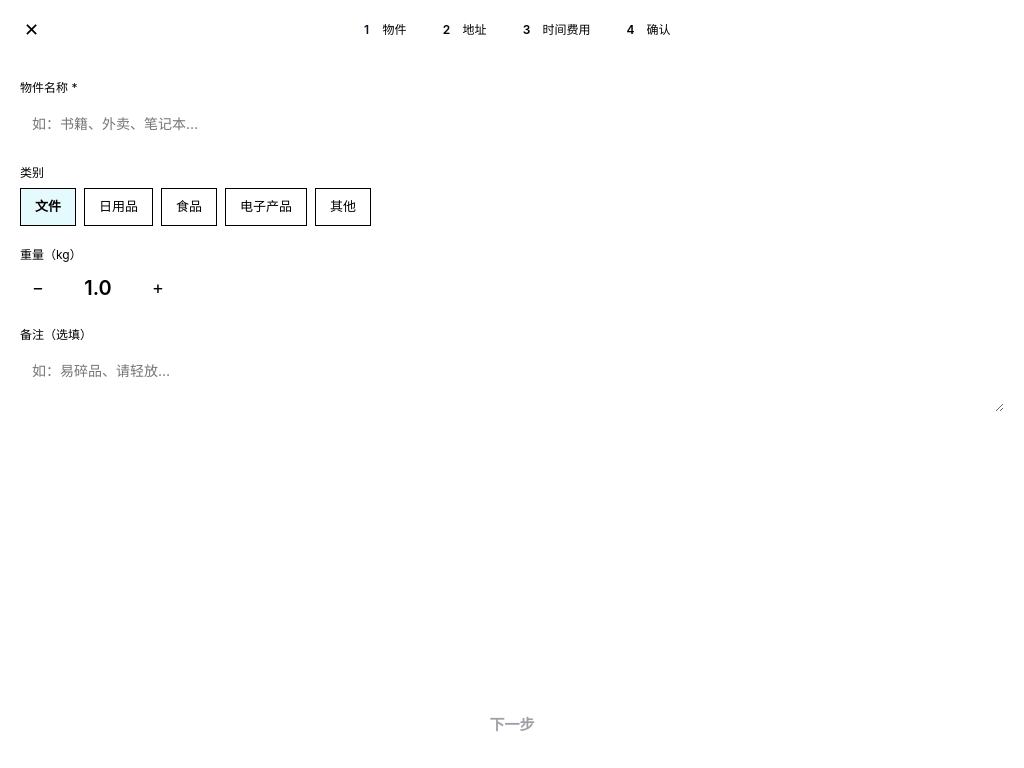
Scenario: WizardShell › goes back when back button is clicked
Type "书籍" into the field with test id "item-name" at (512, 124), box [20, 103, 1004, 144]
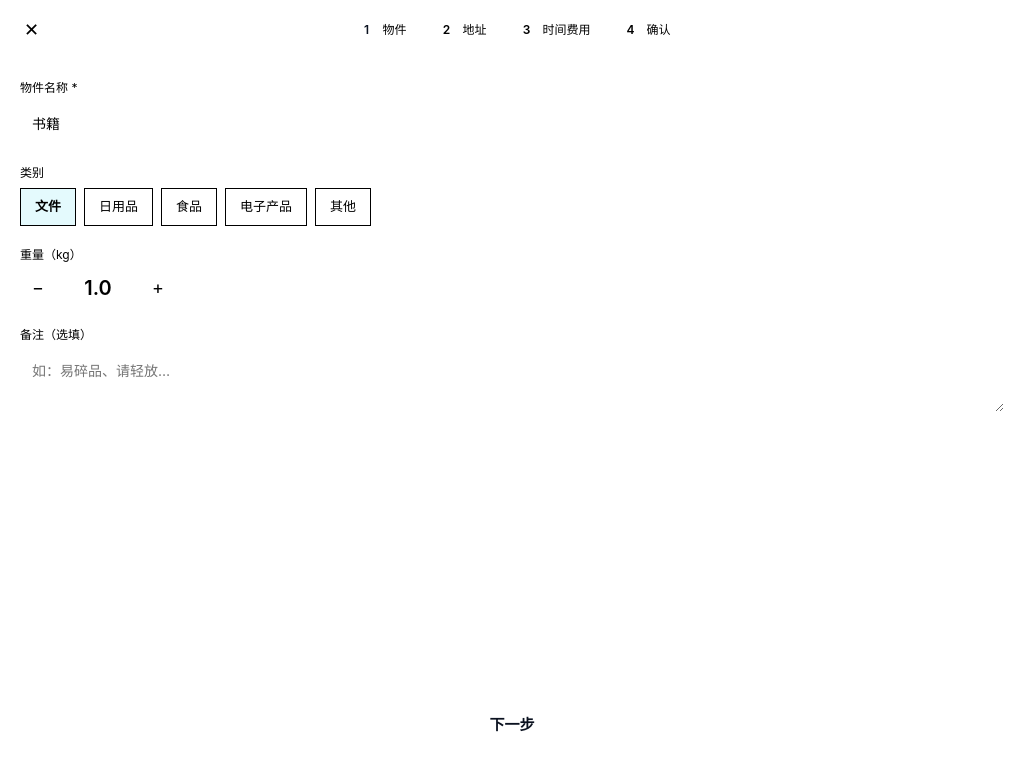
Click the button with test id "wizard-next" at (512, 725), box [20, 702, 1004, 748]
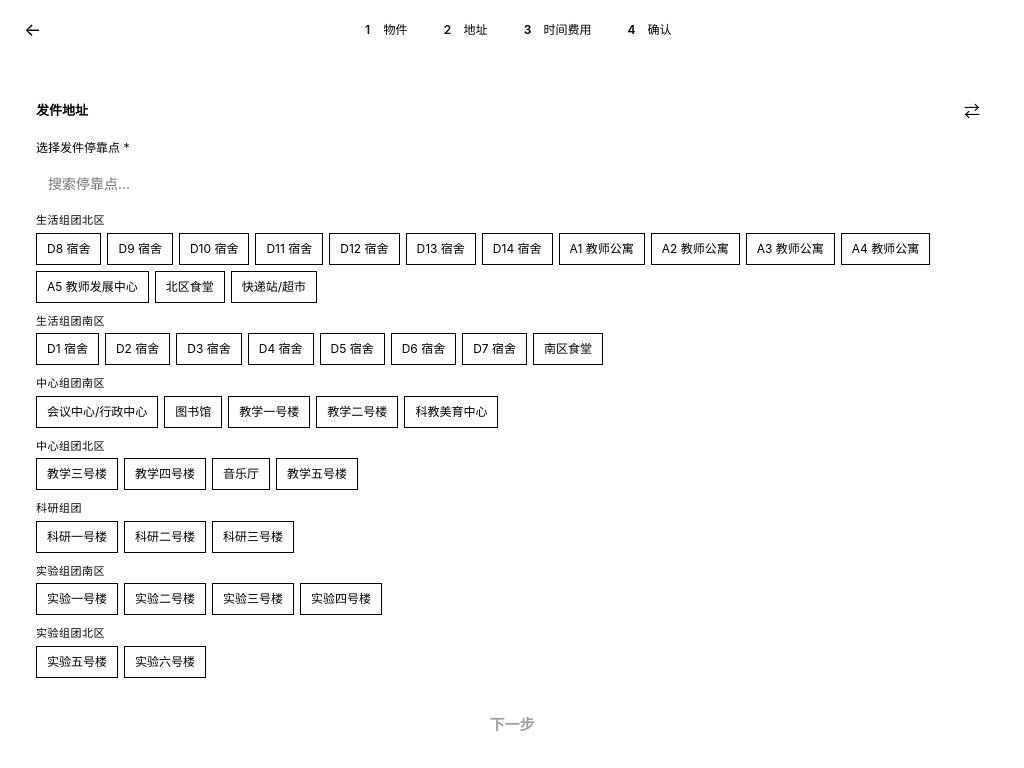
Click the button with test id "wizard-back" at (33, 30), box [16, 12, 49, 47]
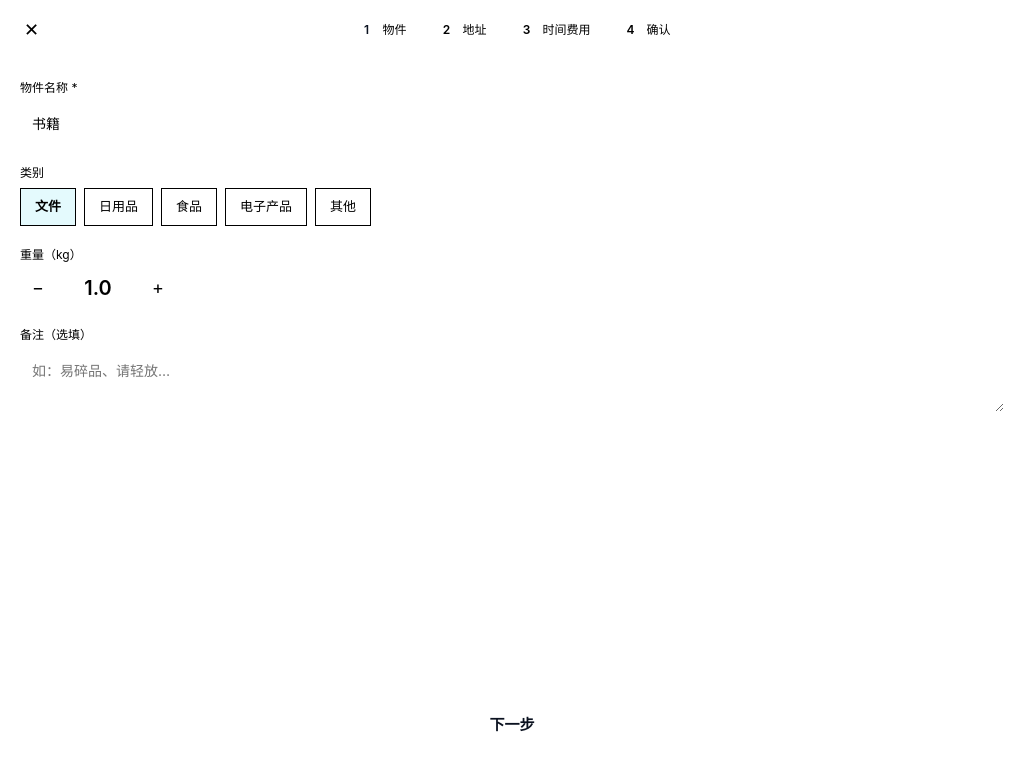
Expected: the element with test id "step-item" is shown, [20, 79, 1004, 416]
